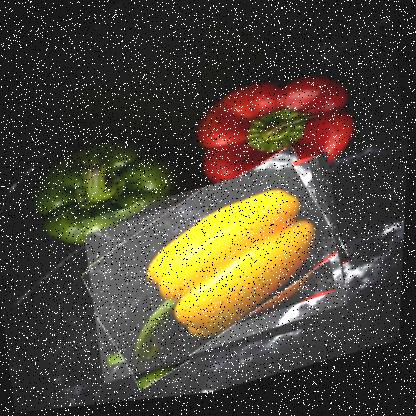capsicum: (78, 155, 359, 387)
